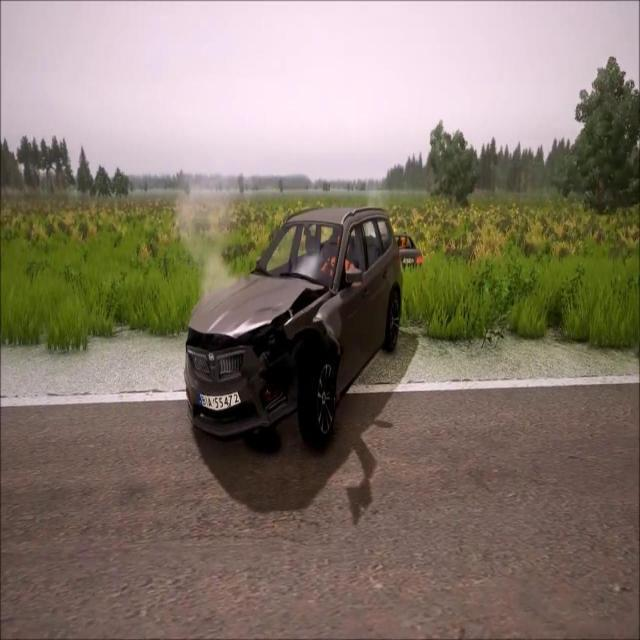moderate: (178, 200, 408, 449)
